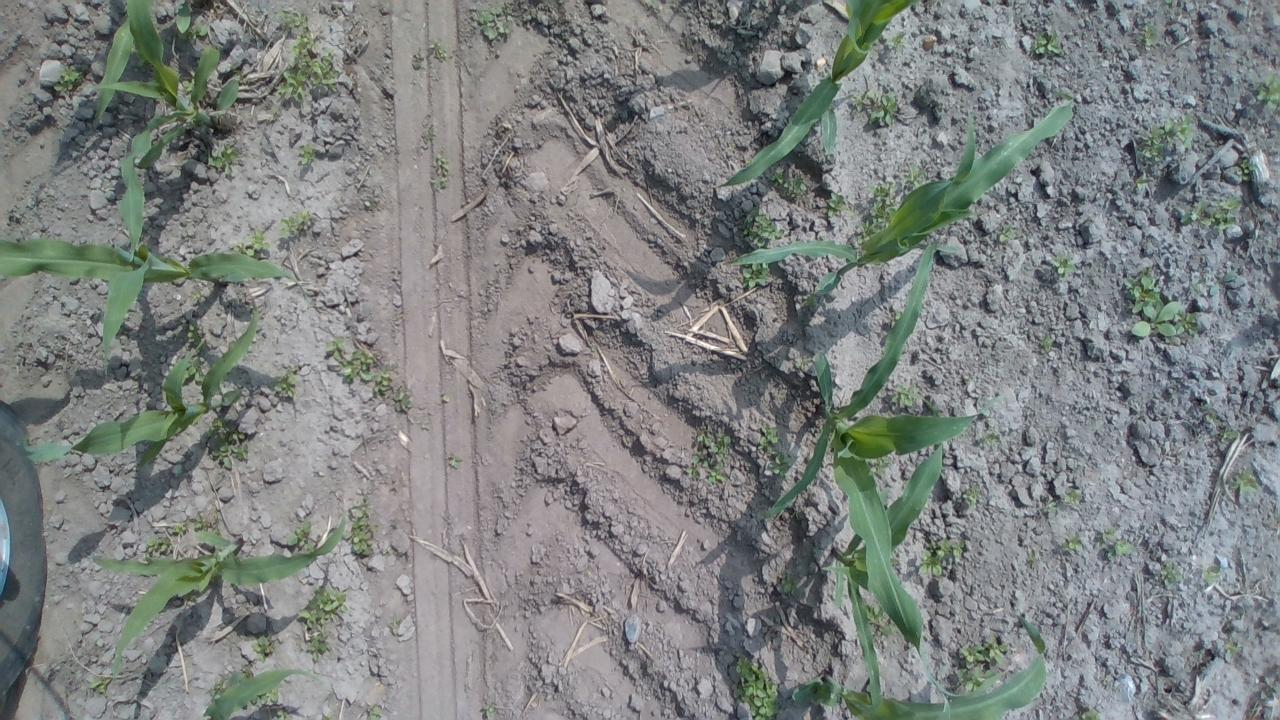Maize: (762, 238, 1012, 703), (722, 93, 1078, 297), (0, 234, 300, 375), (93, 512, 347, 678), (23, 304, 260, 468), (718, 0, 928, 184), (818, 444, 945, 707), (116, 0, 241, 259), (790, 615, 1050, 720), (202, 665, 314, 720), (92, 0, 138, 123)
Weeds: (1124, 266, 1196, 338), (276, 30, 338, 104), (327, 335, 391, 395), (956, 635, 1009, 694), (735, 655, 781, 720), (858, 179, 899, 243), (1142, 115, 1194, 162), (686, 432, 731, 486), (295, 586, 348, 628), (206, 416, 248, 468), (757, 424, 793, 482), (1182, 197, 1240, 231), (742, 206, 785, 249), (919, 538, 964, 577), (852, 91, 896, 129), (350, 498, 377, 556), (174, 0, 210, 40), (478, 3, 512, 40), (770, 169, 809, 201), (864, 604, 900, 638), (208, 144, 242, 178), (272, 365, 302, 402), (251, 630, 280, 665), (233, 230, 270, 256), (888, 382, 922, 410), (1032, 29, 1064, 57), (1256, 75, 1280, 112), (280, 210, 310, 239), (286, 522, 314, 553), (306, 629, 332, 662), (192, 508, 222, 536), (904, 164, 930, 194), (430, 152, 450, 190), (54, 66, 82, 93), (740, 262, 768, 289), (1230, 467, 1258, 494), (826, 191, 852, 218), (146, 537, 177, 559), (278, 7, 307, 30), (188, 320, 208, 352), (86, 673, 112, 696), (1050, 255, 1075, 278), (182, 357, 204, 383), (1160, 565, 1186, 587), (866, 455, 892, 474), (250, 688, 279, 704), (1109, 541, 1132, 561), (998, 222, 1019, 243), (977, 430, 1001, 447), (780, 574, 800, 594), (300, 143, 318, 165), (1063, 488, 1086, 505), (962, 485, 978, 509), (394, 391, 414, 410), (208, 678, 226, 699), (886, 30, 906, 48), (1240, 159, 1255, 182), (1142, 24, 1155, 49), (1063, 536, 1083, 552), (171, 520, 192, 535), (1202, 567, 1220, 584), (431, 39, 447, 58), (366, 703, 383, 720), (266, 708, 290, 720), (1098, 528, 1115, 544), (1224, 640, 1240, 657), (1040, 334, 1054, 352), (448, 456, 464, 470), (1080, 709, 1100, 720), (240, 666, 255, 680), (1026, 548, 1041, 562), (479, 703, 495, 716), (135, 54, 149, 68), (804, 295, 818, 309), (246, 336, 258, 352), (794, 356, 810, 368), (879, 487, 890, 504), (1221, 430, 1238, 441), (182, 78, 195, 92), (1134, 176, 1148, 189), (928, 406, 942, 418), (1044, 501, 1058, 513), (192, 289, 204, 301), (646, 0, 660, 9), (892, 310, 902, 321), (322, 712, 333, 720), (1208, 413, 1217, 420), (234, 74, 241, 81)
